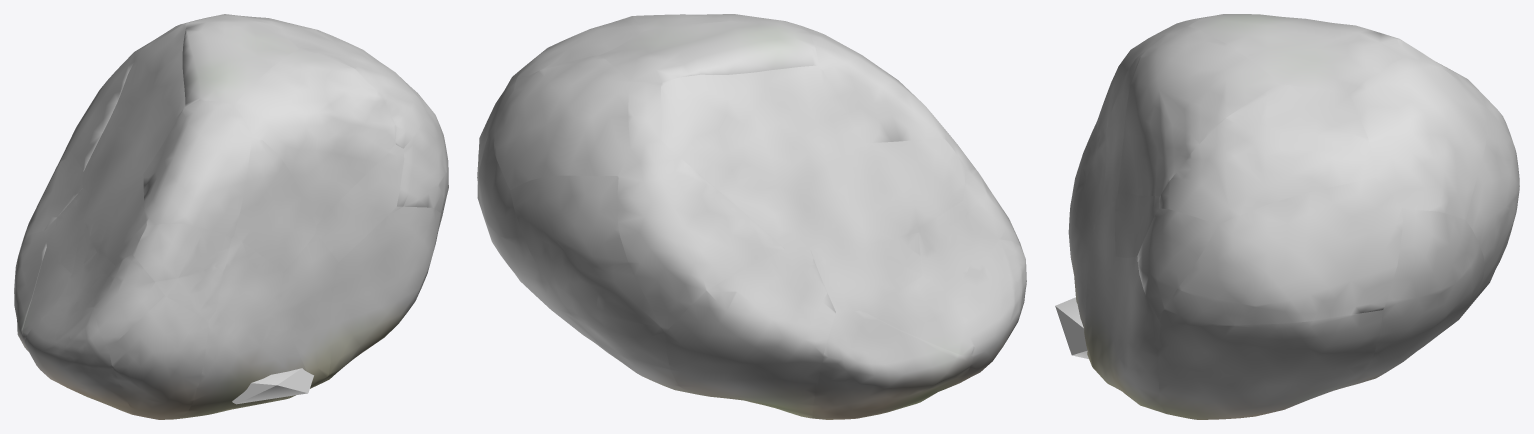
The model's file is rock_v6.glb.
The picture shows the model from 3 angles, left to right: view 1: azimuth 30°, elevation 25°; view 2: azimuth 150°, elevation 25°; view 3: azimuth 270°, elevation 25°; orthographic projection. The views are drawn at different scales.
Visible parts, largest first — view 1: Chunk_26, Chunk_28, Chunk_05, Chunk_27, Chunk_07, Chunk_02, Chunk_29, Chunk_23, Chunk_04, Chunk_20, Chunk_10, Chunk_18 (+15 smaller); view 2: Chunk_27, Chunk_06, Chunk_11, Chunk_19, Chunk_16, Chunk_01, Chunk_29, Chunk_28, Chunk_04, Chunk_25, Chunk_03, Chunk_14 (+8 smaller); view 3: Chunk_08, Chunk_21, Chunk_00, Chunk_16, Chunk_26, Chunk_03, Chunk_29, Chunk_05, Chunk_11, Chunk_13, Chunk_10, Chunk_18 (+8 smaller).
Part boxes in pixels (left/top/right/bottom): Chunk_26: left=234, top=49, right=396, bottom=224; Chunk_28: left=143, top=100, right=252, bottom=238; Chunk_05: left=310, top=206, right=440, bottom=388; Chunk_27: left=82, top=23, right=186, bottom=195; Chunk_07: left=109, top=296, right=208, bottom=419; Chunk_02: left=176, top=303, right=306, bottom=419; Chunk_29: left=182, top=16, right=298, bottom=107; Chunk_23: left=233, top=134, right=316, bottom=272; Chunk_04: left=24, top=296, right=134, bottom=415; Chunk_20: left=132, top=223, right=231, bottom=320; Chunk_10: left=278, top=233, right=338, bottom=388; Chunk_18: left=316, top=144, right=404, bottom=261; Chunk_27: left=661, top=65, right=868, bottom=249; Chunk_06: left=665, top=249, right=835, bottom=418; Chunk_11: left=510, top=175, right=695, bottom=394; Chunk_19: left=617, top=140, right=784, bottom=332; Chunk_16: left=494, top=55, right=630, bottom=190; Chunk_01: left=812, top=310, right=973, bottom=419; Chunk_29: left=599, top=21, right=819, bottom=82; Chunk_28: left=808, top=31, right=946, bottom=143; Chunk_04: left=945, top=239, right=1026, bottom=389; Chunk_25: left=865, top=139, right=965, bottom=228; Chunk_03: left=477, top=125, right=655, bottom=382; Chunk_14: left=811, top=233, right=922, bottom=312; Chunk_08: left=1160, top=177, right=1402, bottom=325; Chunk_21: left=1159, top=84, right=1375, bottom=224; Chunk_00: left=1158, top=310, right=1382, bottom=419; Chunk_16: left=1349, top=57, right=1486, bottom=219; Chunk_26: left=1118, top=26, right=1279, bottom=196; Chunk_03: left=1331, top=209, right=1484, bottom=391; Chunk_29: left=1187, top=14, right=1404, bottom=93; Chunk_05: left=1093, top=256, right=1164, bottom=413; Chunk_11: left=1465, top=107, right=1519, bottom=311; Chunk_13: left=1137, top=208, right=1218, bottom=320; Chunk_10: left=1084, top=201, right=1115, bottom=368; Chunk_18: left=1115, top=193, right=1159, bottom=257.
Bounding box in the file's own units: 3.2 × 2.14 × 2.54.
